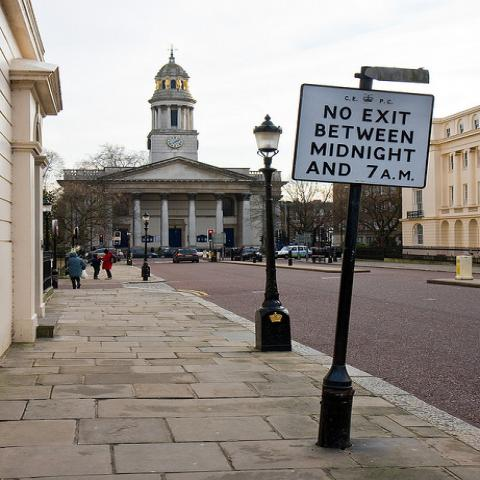car: (172, 248, 201, 264), (274, 245, 306, 259), (241, 247, 265, 263), (84, 248, 115, 259), (132, 250, 158, 258), (156, 249, 175, 259), (307, 247, 322, 255), (197, 250, 209, 258), (120, 252, 124, 258)
